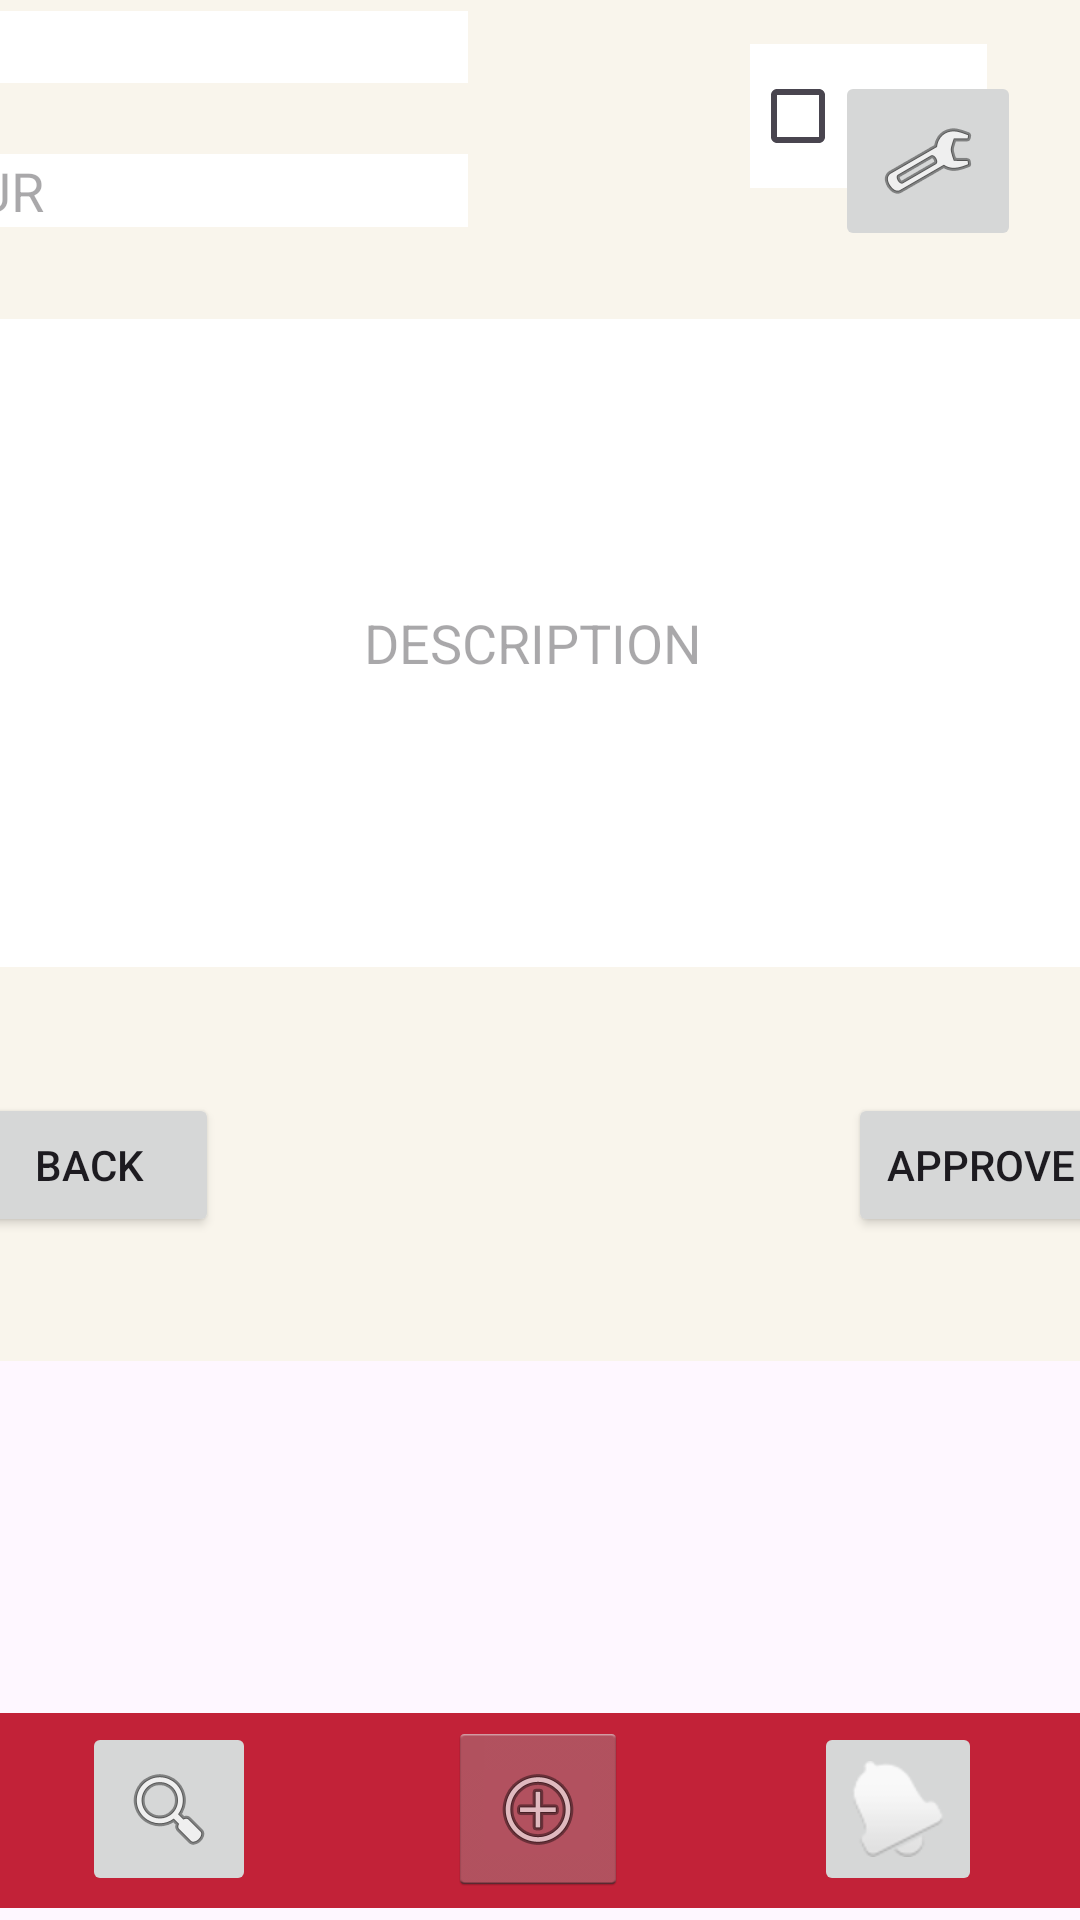

Point at icon controls on the screen. Image size 1080*1920, points as (x=x, y=y).
add: (x=538, y=1809)
manage: (x=928, y=161)
popup reminder: (x=898, y=1809)
search: (x=169, y=1809)
